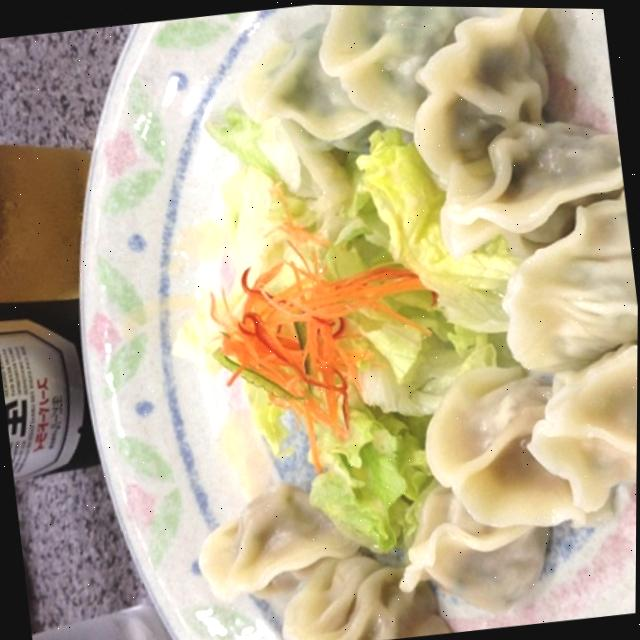带馅早点: (90, 1, 640, 640)
